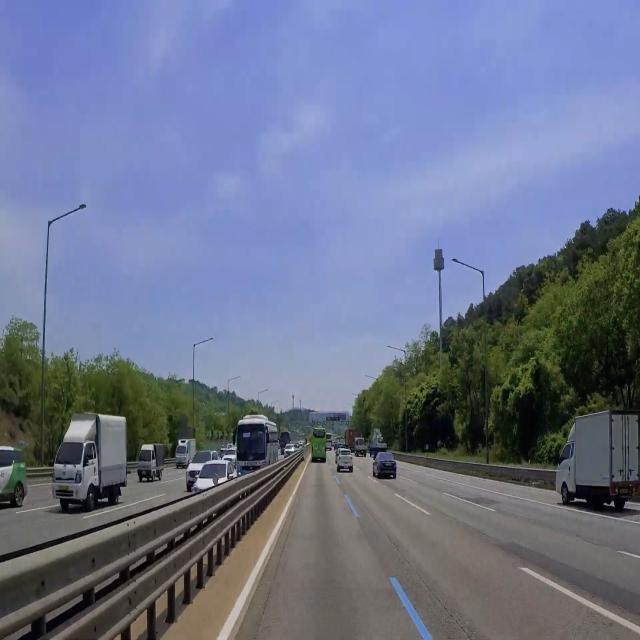car: (55, 481, 73, 495), (618, 484, 631, 499), (383, 461, 395, 473)
